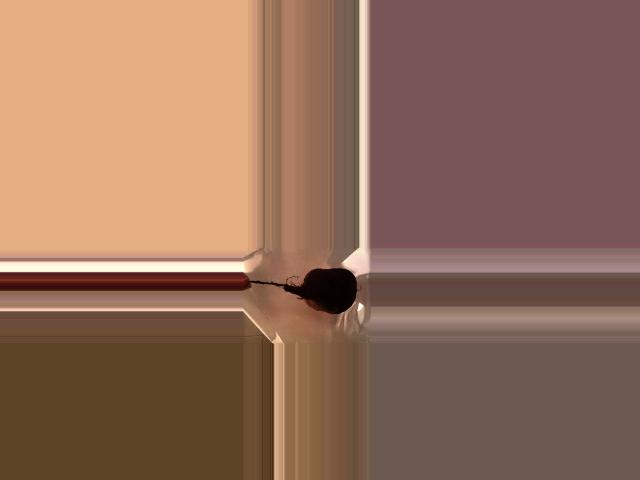beet: (247, 268, 356, 314)
